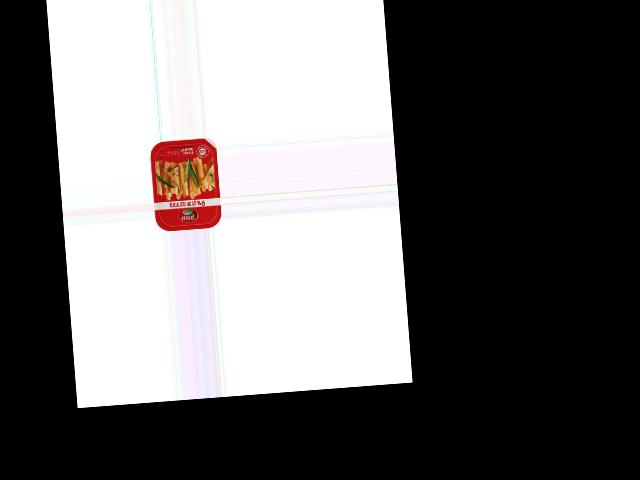cheese: (148, 137, 222, 232)
